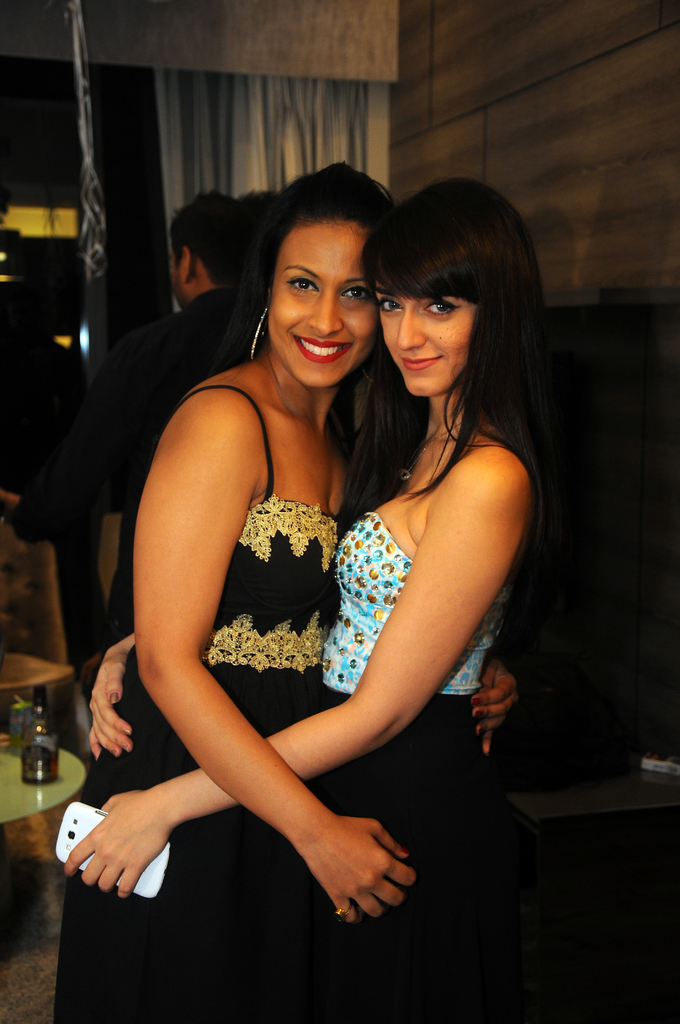Human_hand: (53, 753, 219, 897), (307, 816, 418, 930), (467, 660, 526, 758), (85, 650, 127, 760)
